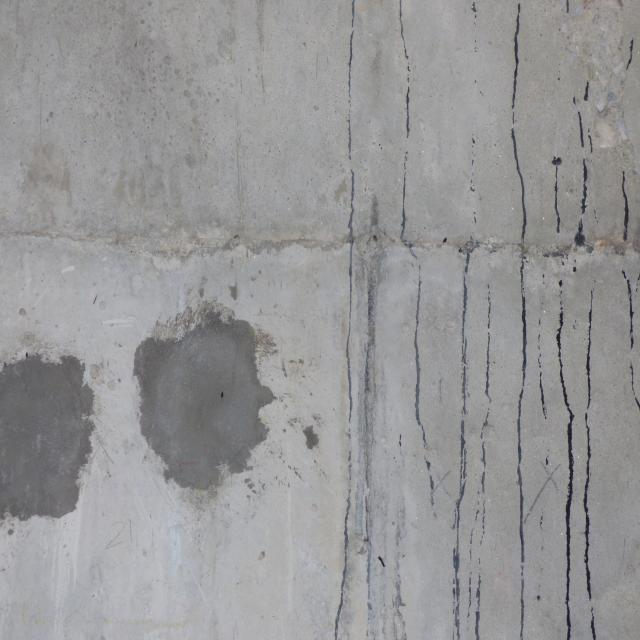corrosion: (597, 240, 610, 248), (372, 234, 379, 243)
